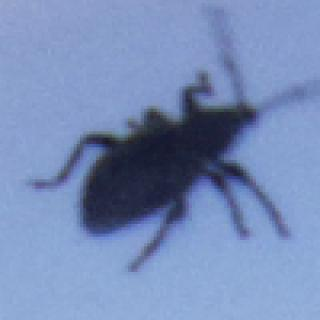bvw: (24, 9, 312, 271)
